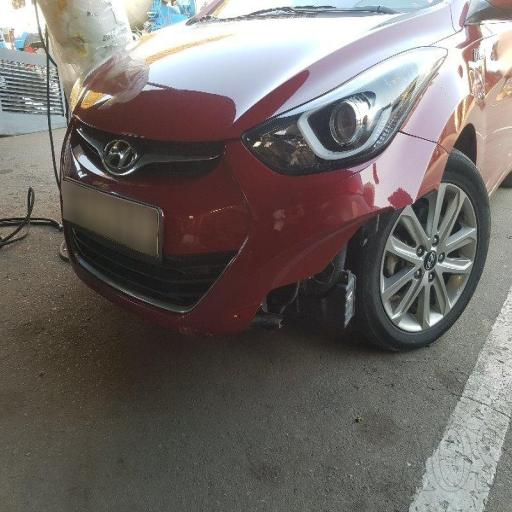broken: (230, 239, 414, 349), (386, 84, 486, 221)
scratch: (260, 180, 370, 250)
